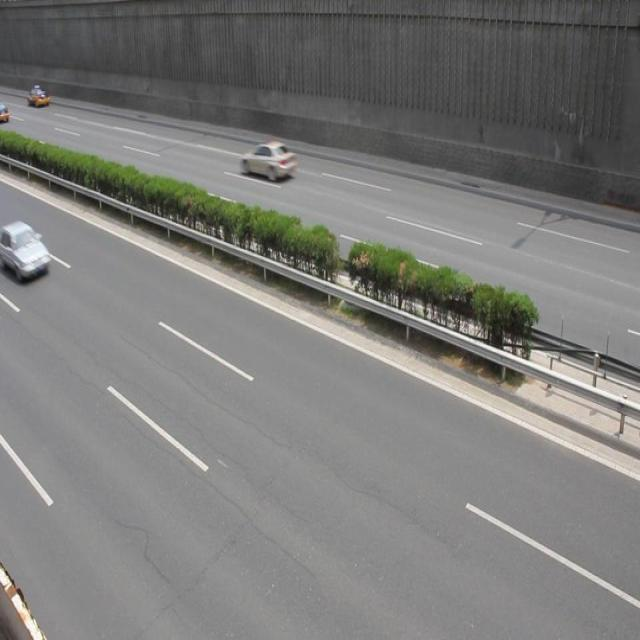car: (0, 220, 50, 281), (239, 140, 297, 181)
